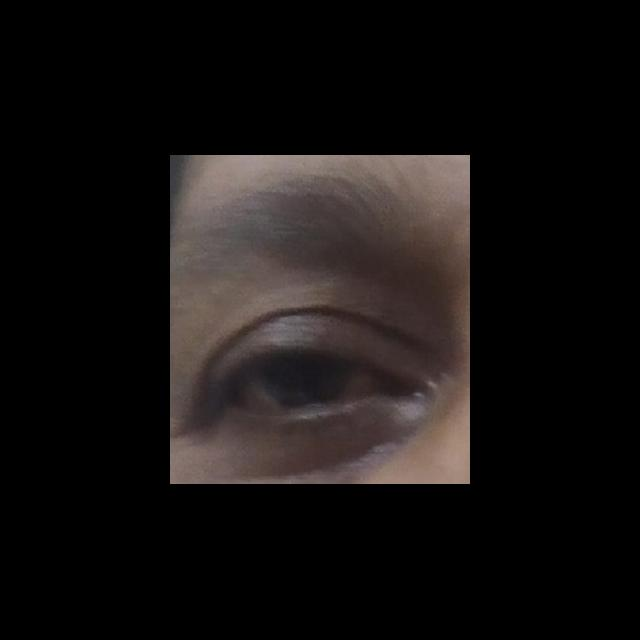eye: (230, 353, 394, 413)
iris: (259, 359, 353, 406)
